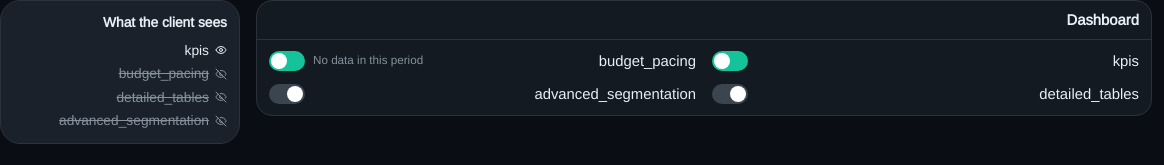
ReportSectionControls › a refusal from the server is shown and the switch keeps the saved state
Click the switch with test id "section-toggle-detailed_tables".
click(730, 94)  # box [712,84,748,104]
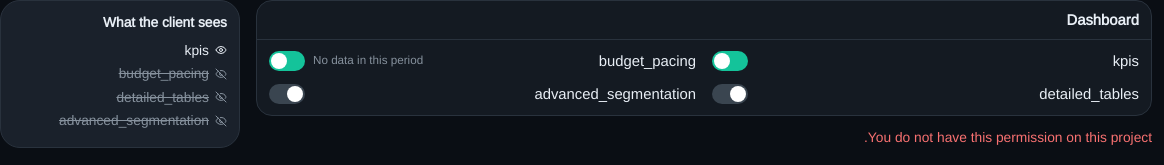
Expected: the message "You do not have this permission on this project." is shown, [864,129,1152,145]
